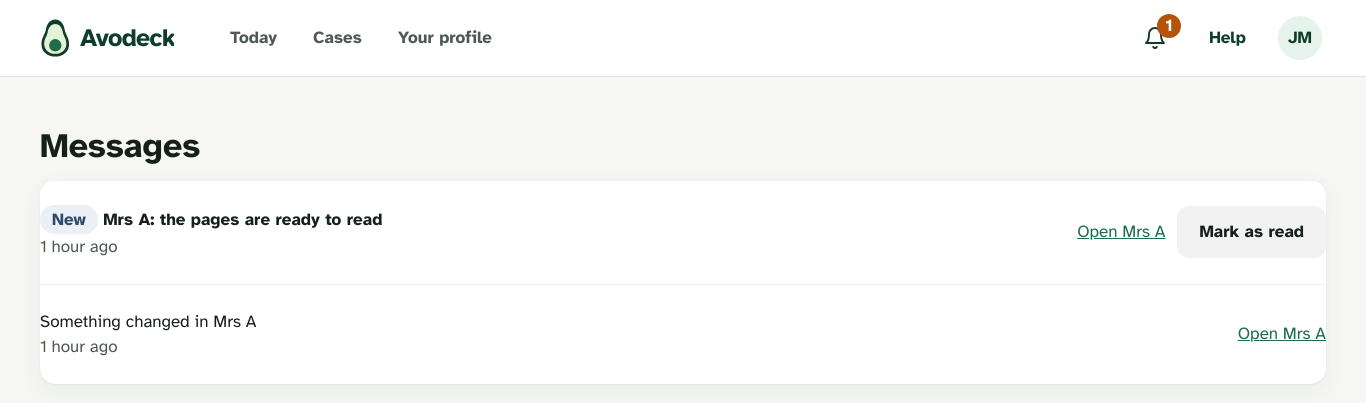
marking a message read tells the server
Click the button "Mark as read": (1252, 232) [1178,206,1326,258]
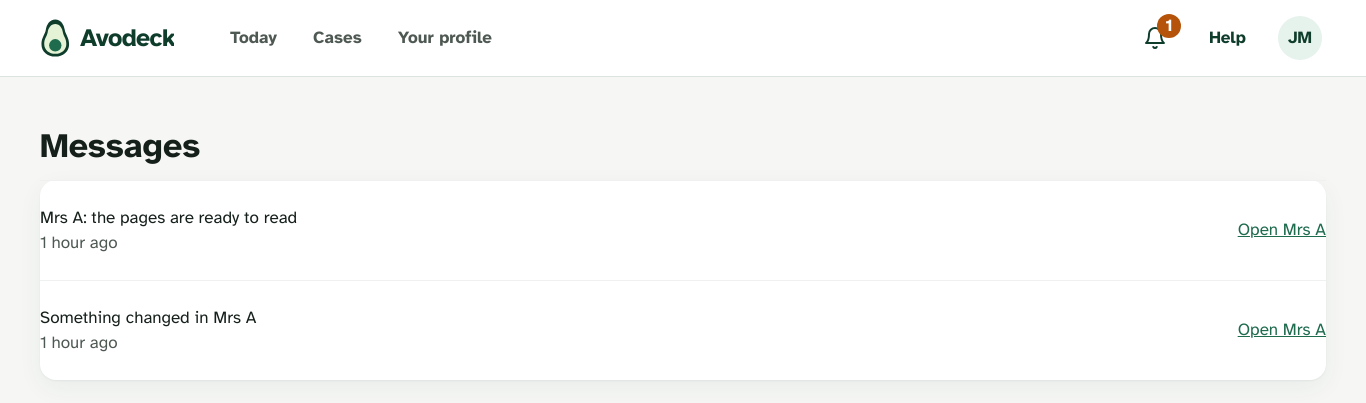
Check: the button "Mark as read" is gone
